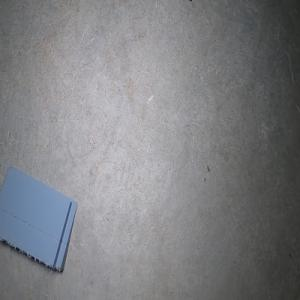PlasticPart: (0, 165, 77, 273)
